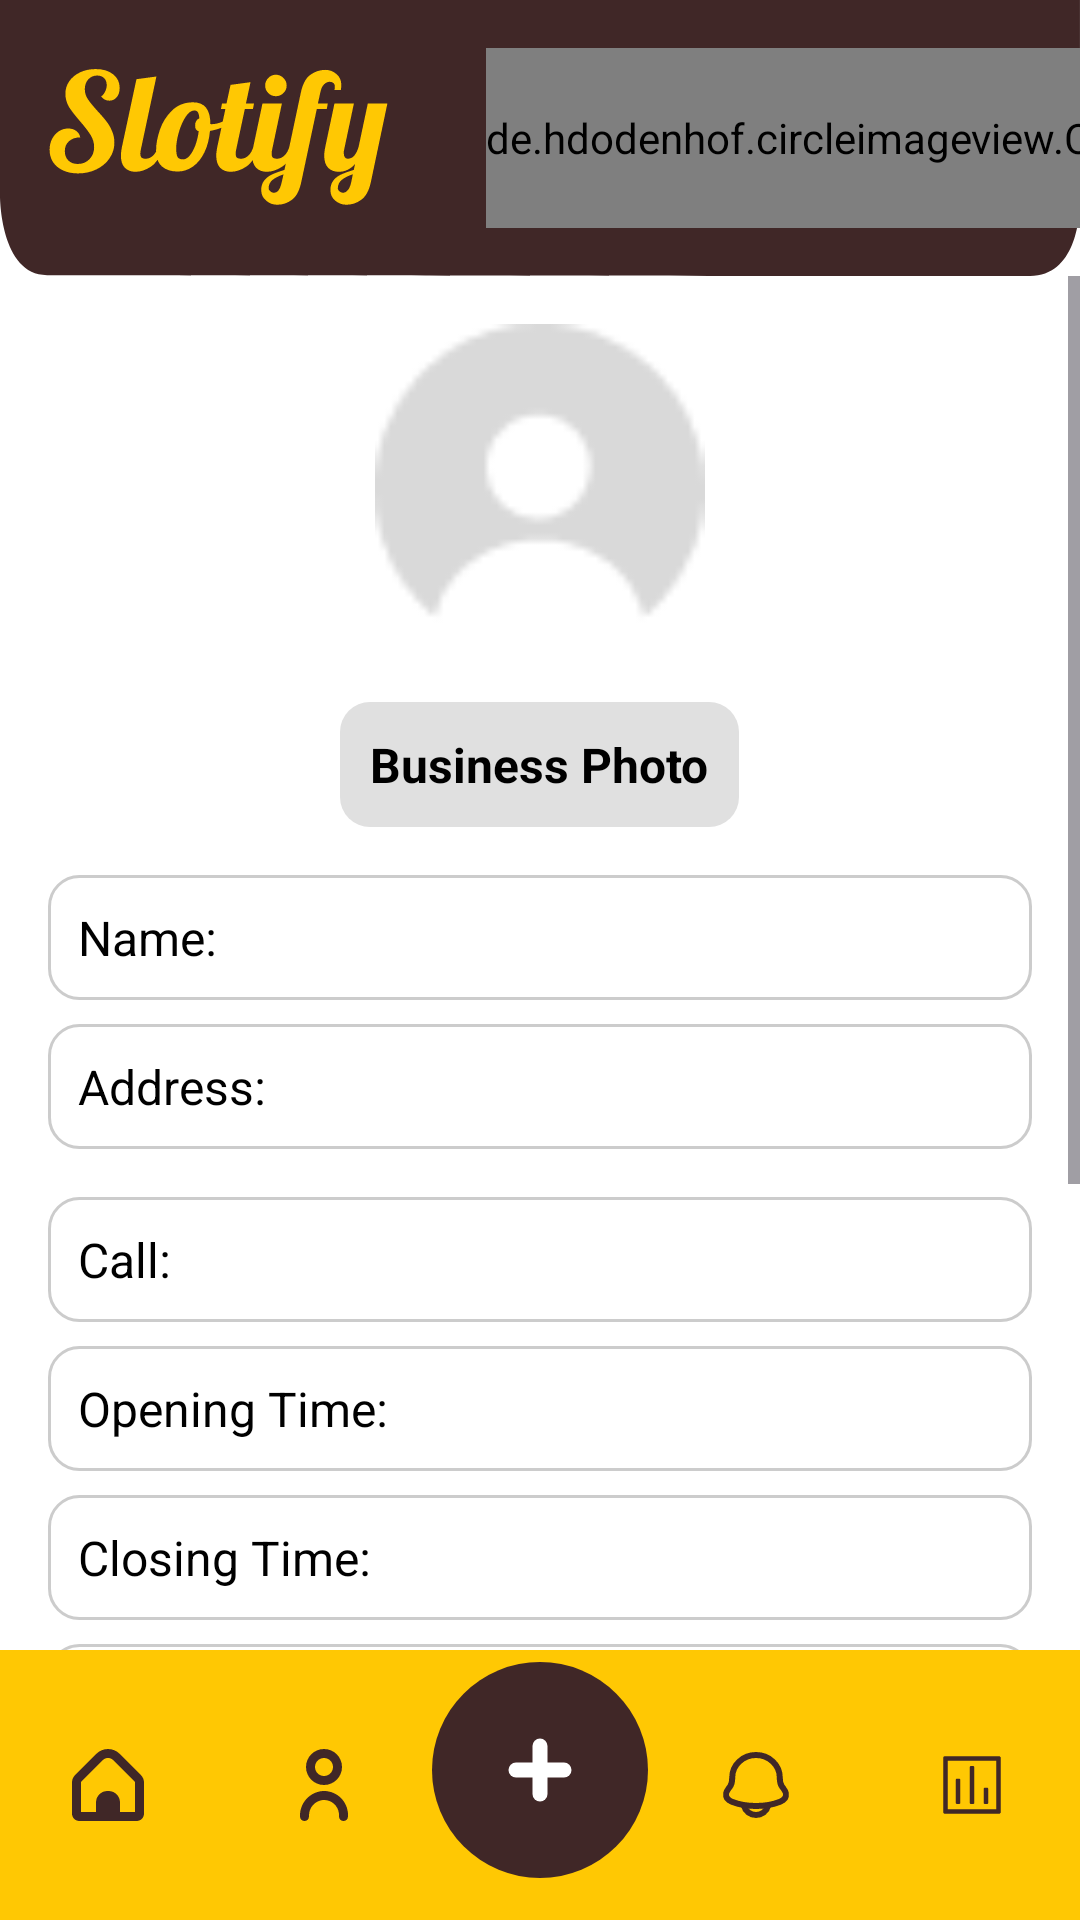

Locate icon controls on the screen. Image size 1080×1920, boxes as (x1, y1, x2, y2).
Add: (432, 1662, 648, 1878)
Dashboard: (943, 1756, 1001, 1814)
Home: (72, 1749, 144, 1821)
Notification: (723, 1752, 789, 1818)
Profile: (300, 1749, 348, 1821)
